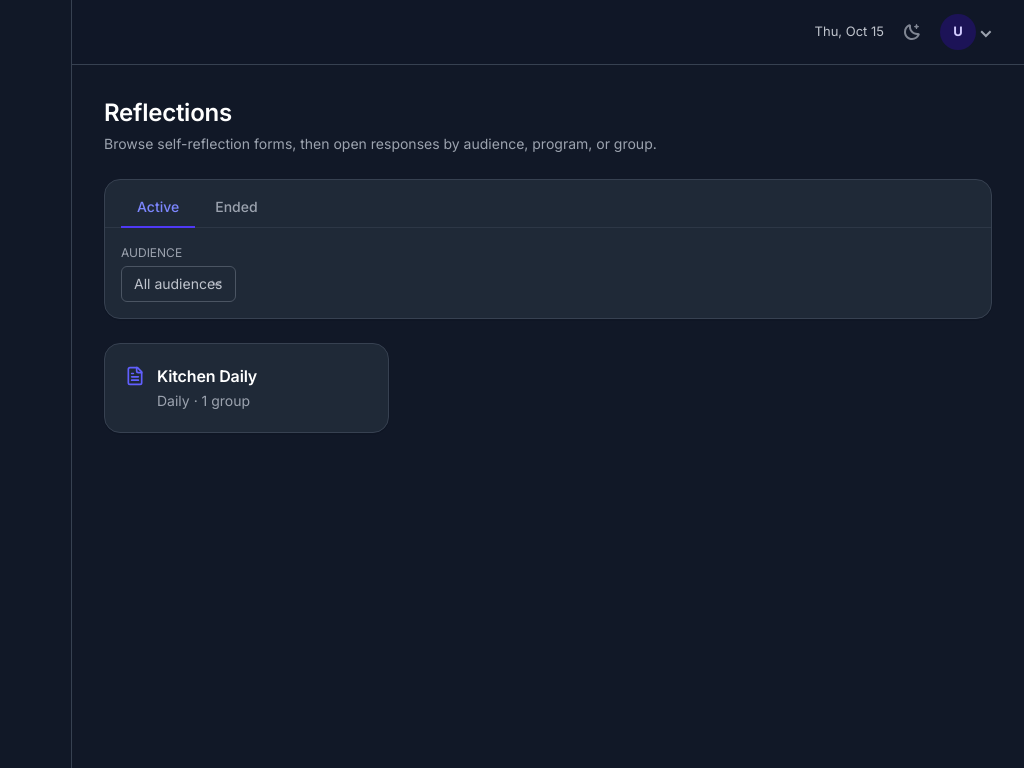
ReflectionsDashboardPage › shows no-match message when filters exclude all forms
This screenshot has width=1024, height=768.
Expected: the link with test id "reflections-form-tile-20" is shown, [104,343,389,433]
Select "bunk" in the dropdown named "Filter by audience". click: (178, 284)
box: [121,266,236,302]
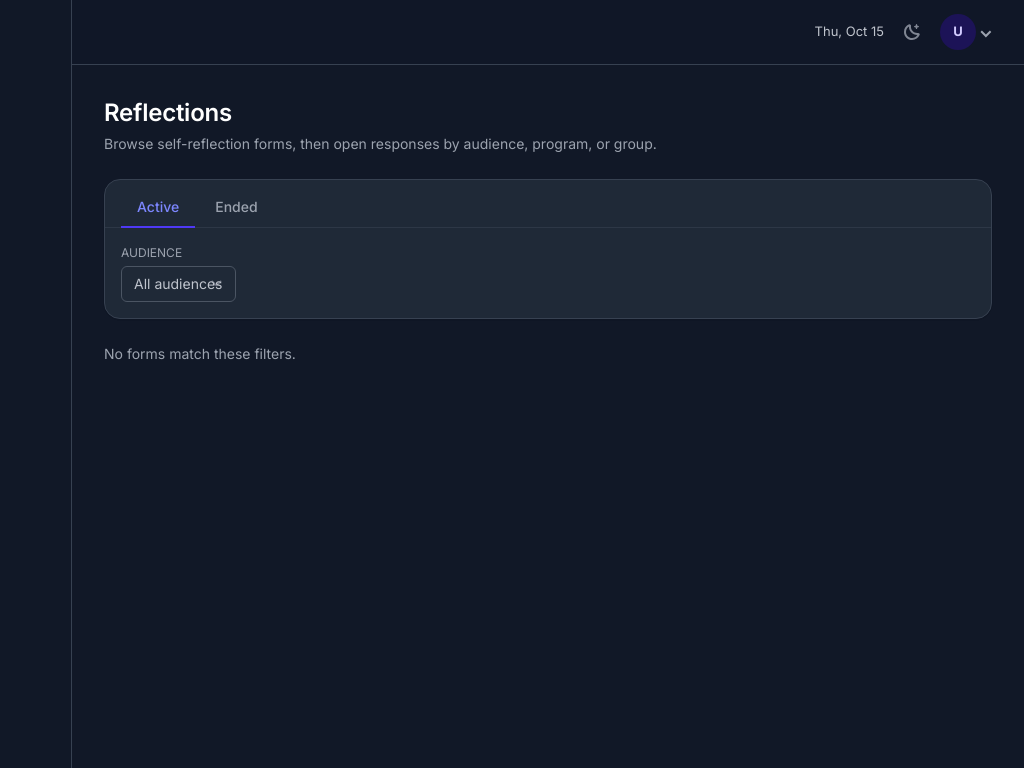
Expected: the text "No forms match these filters." is shown, [104,345,296,362]
